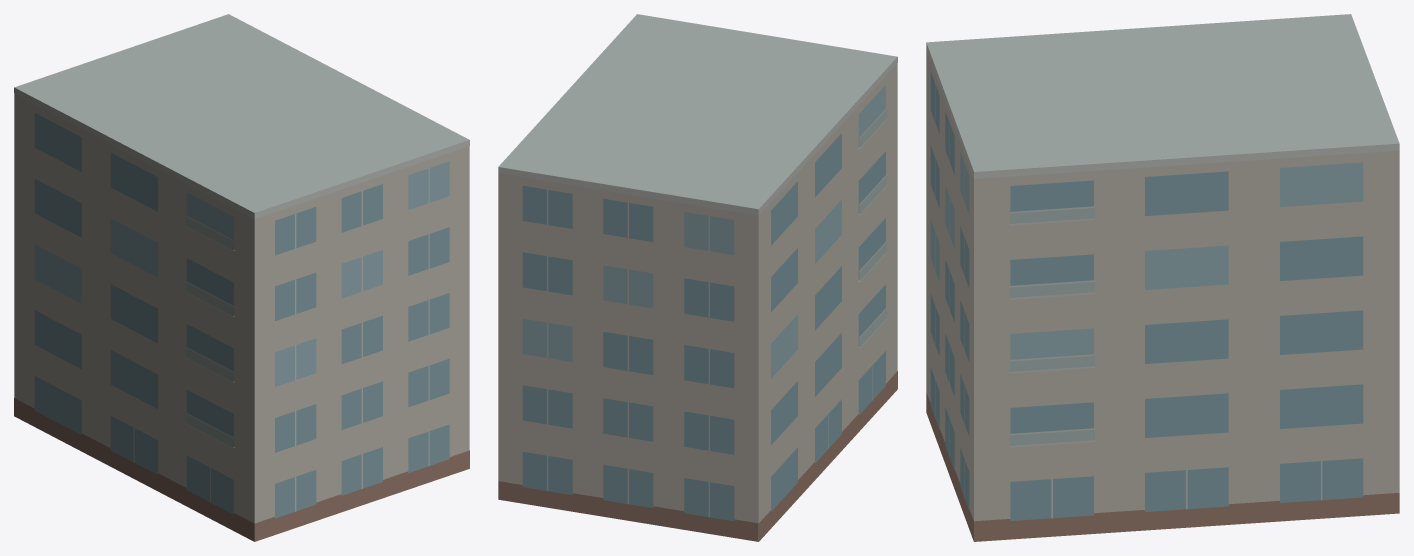
Rendered from survey-upis-32979546.glb.
The picture shows the model from 3 angles, left to right: view 1: azimuth 30°, elevation 25°; view 2: azimuth 150°, elevation 25°; view 3: azimuth 270°, elevation 25°; orthographic projection. The views are drawn at different scales.
Parts seen in each view (by area): view 1: survey-upis-32979546.tmp; view 2: survey-upis-32979546.tmp; view 3: survey-upis-32979546.tmp.
Part boxes in pixels (left/top/right/bottom): survey-upis-32979546.tmp: left=14, top=14, right=469, bottom=541; survey-upis-32979546.tmp: left=498, top=14, right=897, bottom=541; survey-upis-32979546.tmp: left=926, top=14, right=1399, bottom=541.
Bounding box in the file's own units: 12.06 × 13.15 × 15.26.
